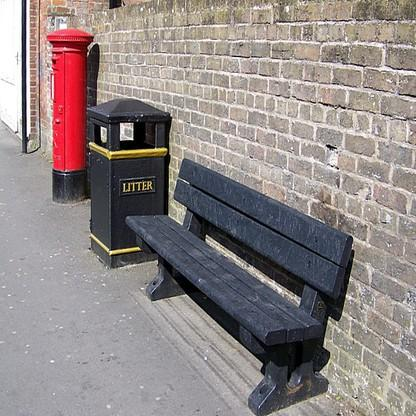obstacle: (120, 155, 361, 411)
